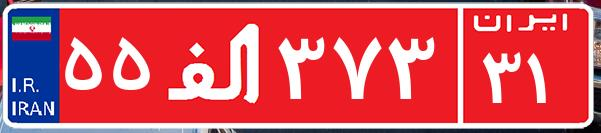1: (525, 38, 570, 115)
3: (385, 28, 445, 110), (273, 28, 330, 110), (475, 38, 525, 113)
5: (57, 26, 110, 107), (110, 28, 158, 105)
7: (330, 28, 385, 110)
الف: (158, 15, 273, 115)
